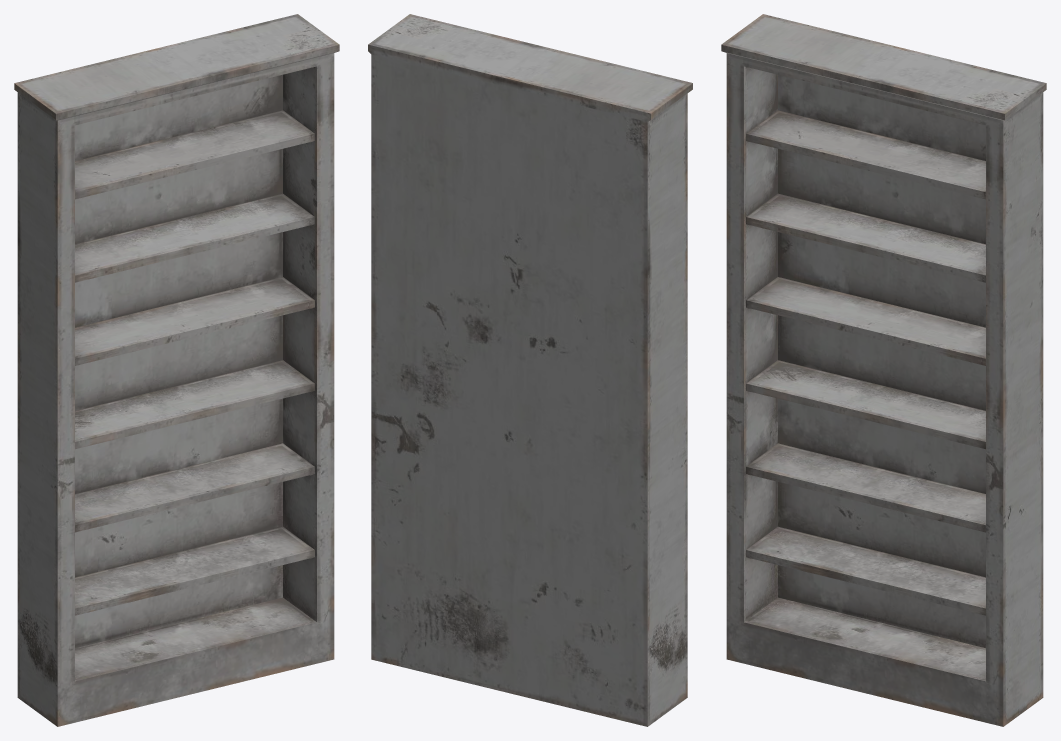
File: polyhaven-shelf-01.glb
The picture shows the model from 3 angles, left to right: view 1: azimuth 30°, elevation 25°; view 2: azimuth 150°, elevation 25°; view 3: azimuth 330°, elevation 25°; orthographic projection.
Visible parts, largest first — view 1: Shelf_01; view 2: Shelf_01; view 3: Shelf_01.
Boxes of the visible parts, bbox=[...] form: Shelf_01: bbox=[14, 14, 339, 726]; Shelf_01: bbox=[368, 14, 692, 726]; Shelf_01: bbox=[721, 14, 1046, 726].
Size of the model in its own units: 1 by 2.08 by 0.257.
Materials: 1 (1 with a texture image).
